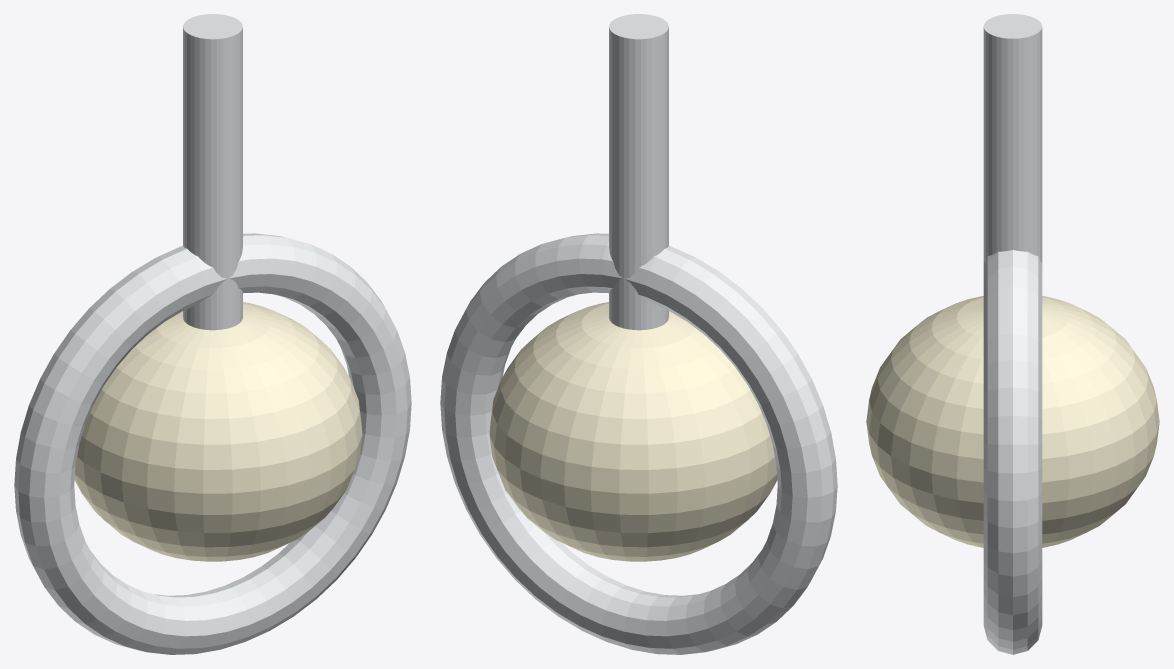
Rendered from lamp.glb.
3 renders of one model, left to right at view 1: azimuth 30°, elevation 25°; view 2: azimuth 150°, elevation 25°; view 3: azimuth 270°, elevation 25°, orthographic. The views are drawn at different scales.
Parts seen in each view (by area): view 1: Lamp; view 2: Lamp; view 3: Lamp.
Boxes of the visible parts, x1,y1,x2,y2 form: Lamp: (14, 14, 411, 654); Lamp: (440, 14, 837, 654); Lamp: (866, 14, 1159, 654).
Bounding box in the file's own units: 0.6 × 0.915 × 0.4.
